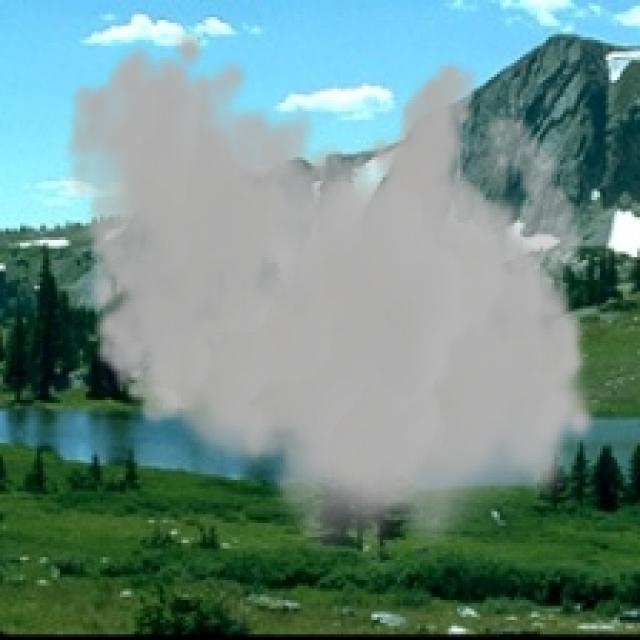Smoke: (63, 26, 600, 566)
